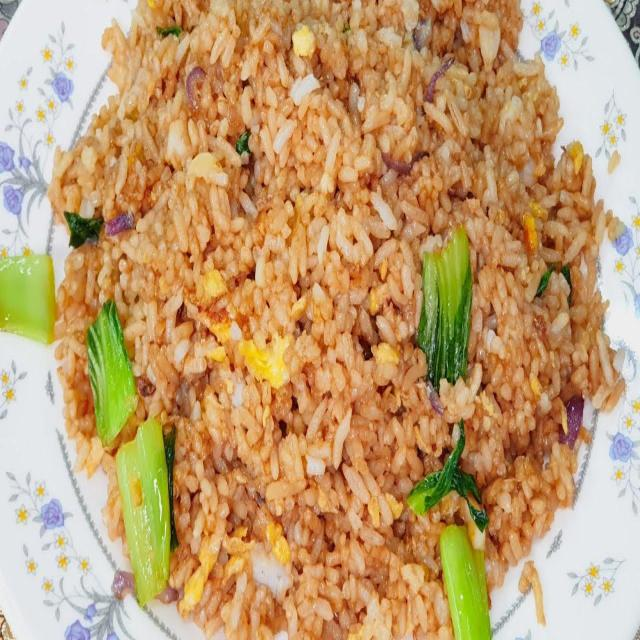Nasi Goreng: (46, 1, 624, 636)
